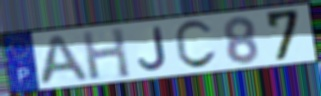7: (263, 8, 303, 64)
8: (221, 15, 261, 66)
A: (36, 33, 93, 88)
C: (172, 18, 220, 72)
H: (79, 25, 133, 82)
J: (137, 25, 170, 72)
